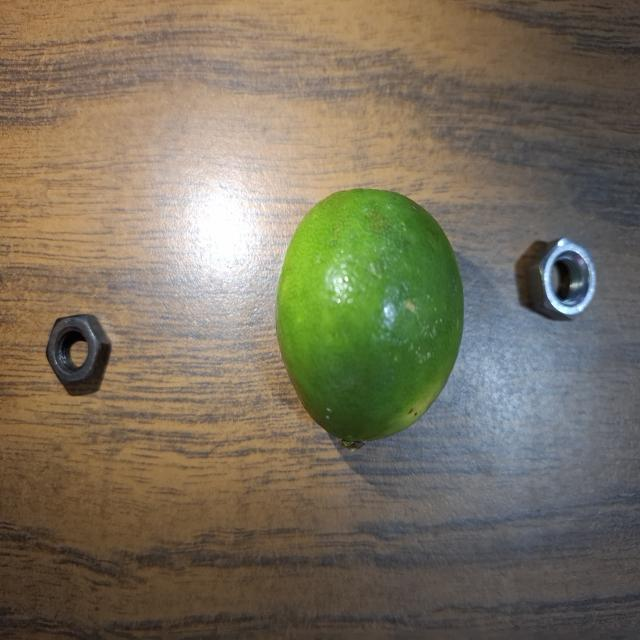limon: (271, 187, 467, 453)
milimetrico: (35, 314, 120, 395)
tuerca: (527, 233, 604, 325)
